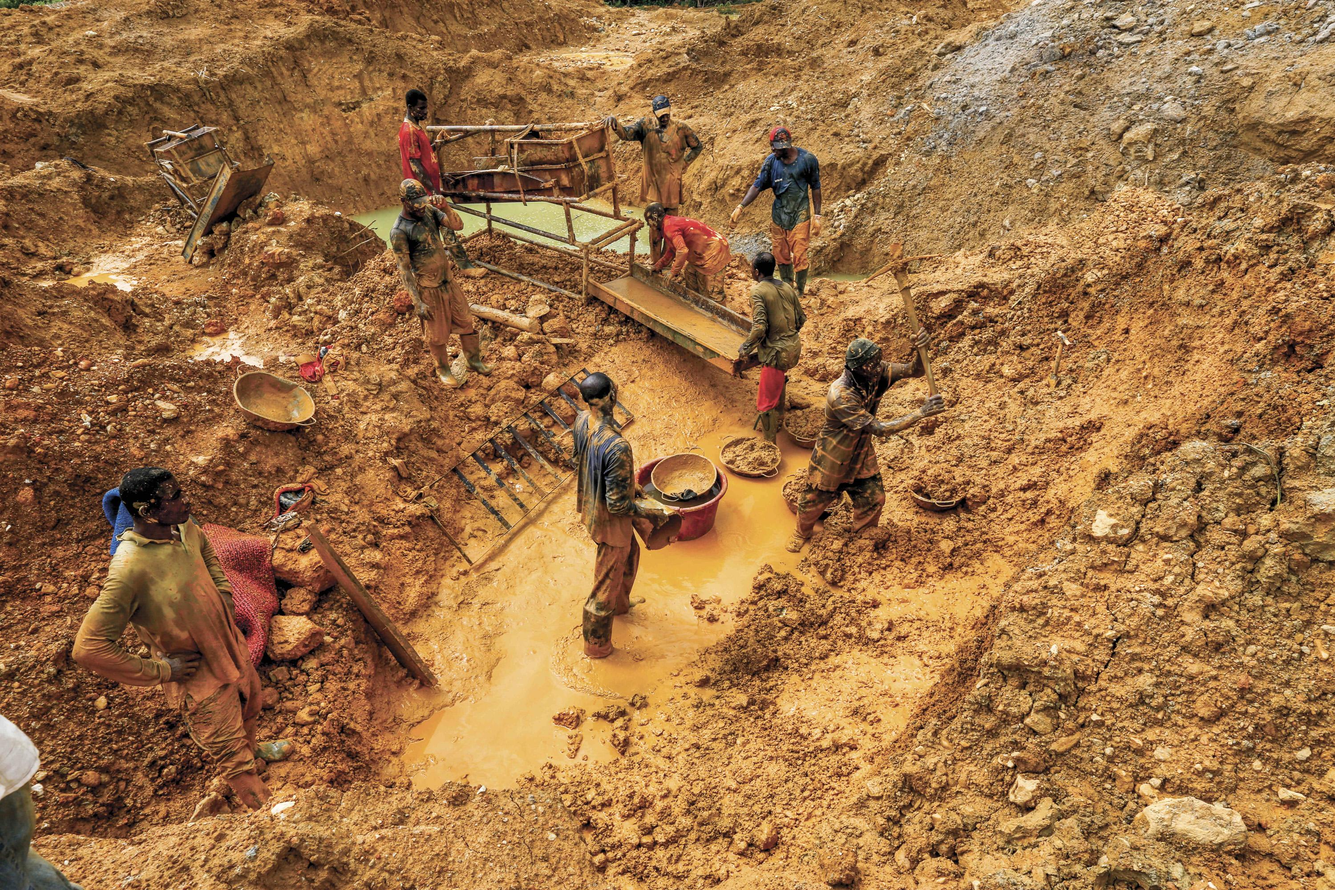MiningTool: (863, 254, 951, 408), (632, 456, 729, 542), (231, 364, 316, 428), (650, 446, 717, 503), (627, 490, 683, 552), (781, 470, 849, 519), (904, 463, 968, 512), (719, 435, 782, 479), (783, 404, 828, 450), (1045, 330, 1072, 391)
Person: (70, 462, 273, 806), (788, 336, 946, 555), (568, 370, 669, 673), (390, 178, 494, 389), (394, 88, 488, 279), (603, 95, 702, 274), (0, 680, 80, 889), (729, 127, 822, 298), (735, 250, 806, 449), (643, 201, 735, 307)
ProcessingEquipment: (426, 117, 765, 376), (418, 360, 639, 572), (144, 122, 275, 266)
